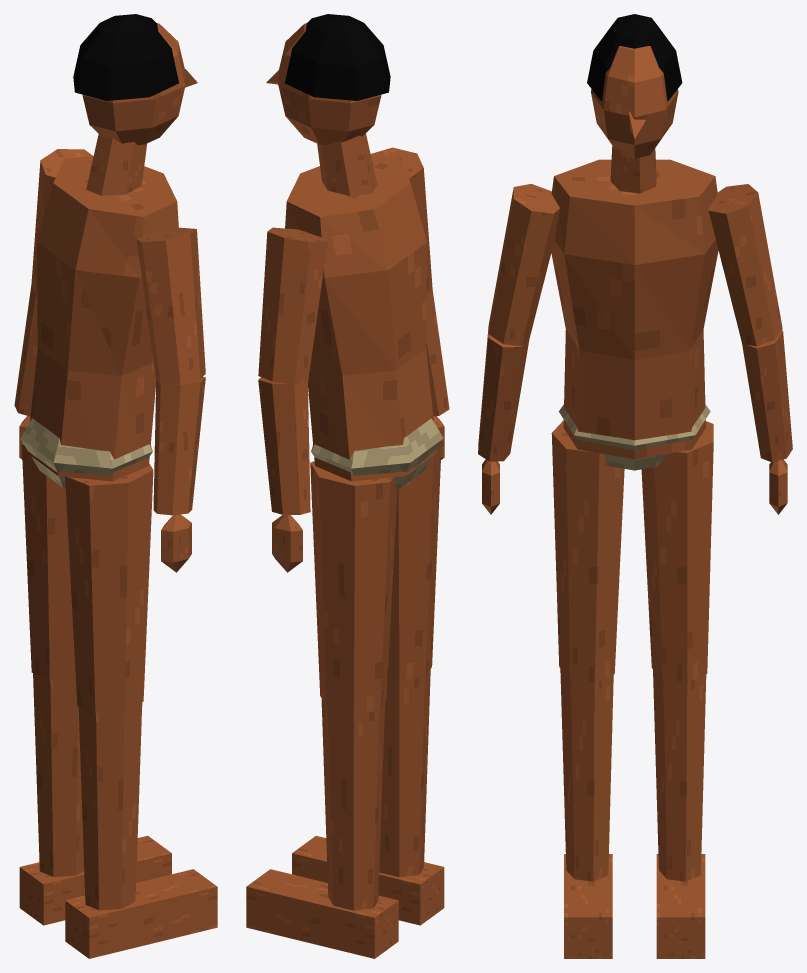
The model's file is cuerpo_anciano.glb.
The picture shows the model from 3 angles, left to right: view 1: azimuth 30°, elevation 25°; view 2: azimuth 150°, elevation 25°; view 3: azimuth 270°, elevation 25°; orthographic projection.
Parts seen in each view (by area): view 1: torso, muslo_der, pierna_der, muslo_izq, pierna_izq, brazo_der, pie_der, cabello, antebrazo_der, cabeza, pie_izq, pelvis (+4 smaller); view 2: torso, muslo_izq, pierna_izq, muslo_der, pierna_der, brazo_izq, pie_izq, cabello, antebrazo_izq, cabeza, pie_der, pelvis (+4 smaller); view 3: torso, muslo_der, muslo_izq, pierna_der, pierna_izq, brazo_izq, brazo_der, cabeza, antebrazo_izq, antebrazo_der, pie_izq, pie_der (+5 smaller).
Boxes of the visible parts, x1=… form: torso: x1=27, y1=156, x2=178, y2=481; muslo_der: x1=65, y1=463, x2=153, y2=713; pierna_der: x1=78, y1=702, x2=142, y2=910; muslo_izq: x1=21, y1=443, x2=75, y2=680; pierna_izq: x1=33, y1=673, x2=84, y2=876; brazo_der: x1=136, y1=227, x2=205, y2=384; pie_der: x1=65, y1=869, x2=217, y2=958; cabello: x1=73, y1=14, x2=178, y2=100; antebrazo_der: x1=153, y1=376, x2=205, y2=515; cabeza: x1=82, y1=23, x2=197, y2=145; pie_izq: x1=19, y1=835, x2=171, y2=925; pelvis: x1=20, y1=418, x2=152, y2=488; torso: x1=285, y1=156, x2=436, y2=481; muslo_izq: x1=310, y1=461, x2=397, y2=713; pierna_izq: x1=321, y1=699, x2=384, y2=910; muslo_der: x1=387, y1=442, x2=441, y2=680; pierna_der: x1=379, y1=669, x2=430, y2=877; brazo_izq: x1=258, y1=227, x2=327, y2=384; pie_izq: x1=246, y1=869, x2=398, y2=958; cabello: x1=285, y1=14, x2=390, y2=100; antebrazo_izq: x1=258, y1=377, x2=310, y2=514; cabeza: x1=266, y1=23, x2=381, y2=144; pie_der: x1=292, y1=835, x2=444, y2=925; pelvis: x1=311, y1=418, x2=443, y2=488; torso: x1=551, y1=159, x2=718, y2=459; muslo_der: x1=551, y1=420, x2=624, y2=682; muslo_izq: x1=641, y1=421, x2=713, y2=682; pierna_der: x1=560, y1=669, x2=613, y2=881; pierna_izq: x1=653, y1=669, x2=706, y2=881; brazo_izq: x1=708, y1=184, x2=782, y2=346; brazo_der: x1=488, y1=184, x2=559, y2=346; cabeza: x1=591, y1=46, x2=678, y2=158; antebrazo_izq: x1=742, y1=330, x2=792, y2=462; antebrazo_der: x1=478, y1=327, x2=529, y2=461; pie_izq: x1=656, y1=854, x2=705, y2=958; pie_der: x1=564, y1=854, x2=612, y2=958.
Size of the model in its own units: 0.3 by 1.6 by 0.5.
1 material, 1 textured.
